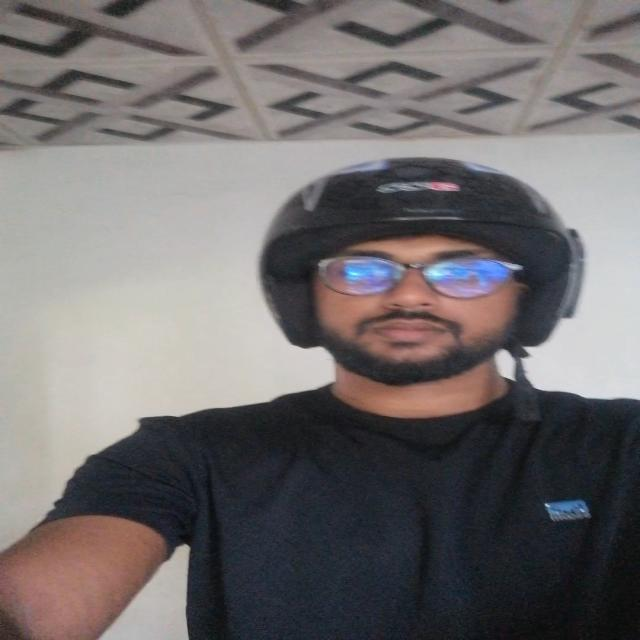Helmet_Wearer: (237, 132, 609, 468)
Person: (0, 153, 640, 640)
